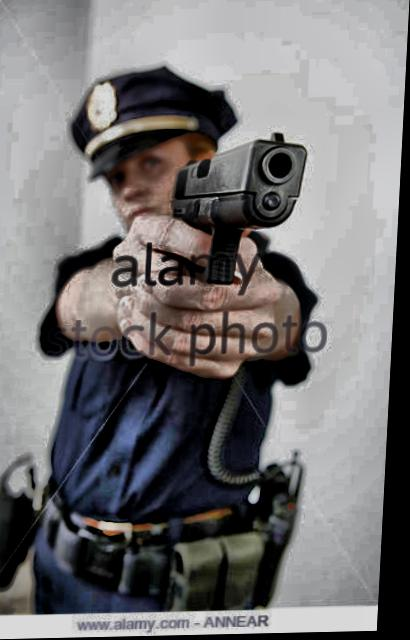pistol: (168, 128, 313, 287)
